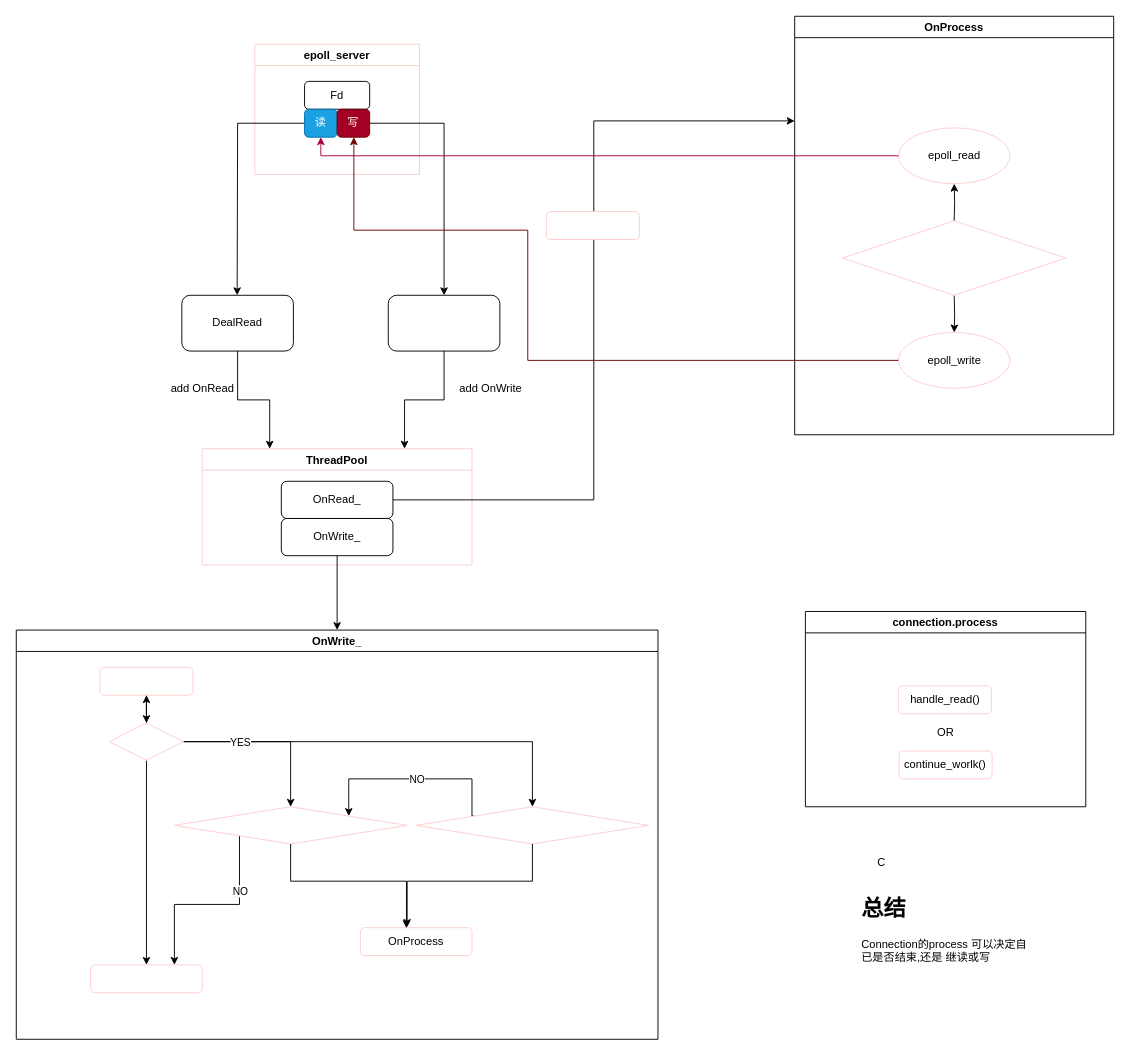
The diagram is 1130 pixels wide and 1056 high, and some of its shapes have lost their labels. The centre of each missing label's shape, as x and y in pixels:
CloseConn_(Conn): the point at 146,978
conn->has_continue_work(): the point at 532,825
conn->keepAlive(): the point at 290,825
Conn->process(): the point at 954,257
Conn->read(): the point at 592,225
Conn->wirte(): the point at 146,680
DealWrite: the point at 443,322
写完: the point at 146,741
